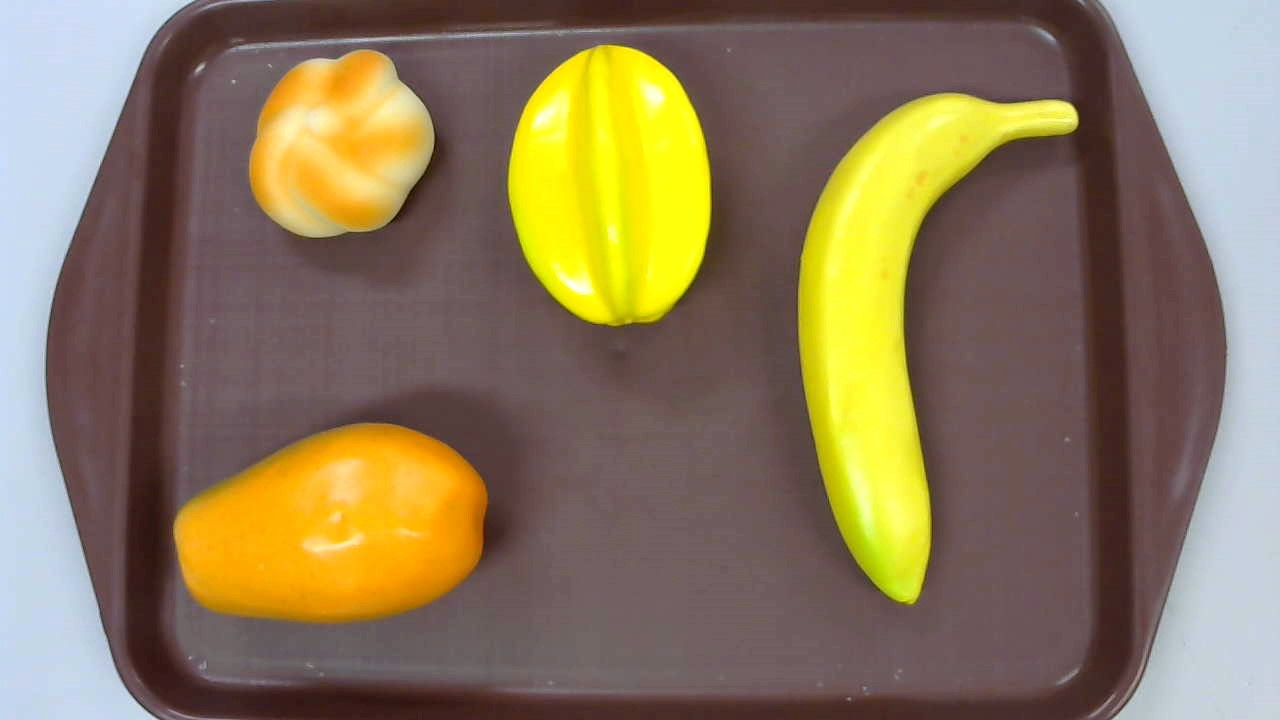banana: (798, 92, 1078, 605)
papya: (171, 420, 488, 626)
star fruit: (505, 45, 713, 325)
twist bread: (248, 47, 435, 238)
